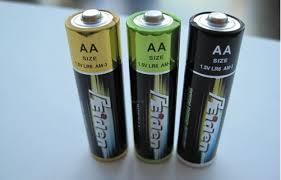AA: (175, 10, 245, 167), (64, 7, 128, 161), (125, 9, 181, 163)
